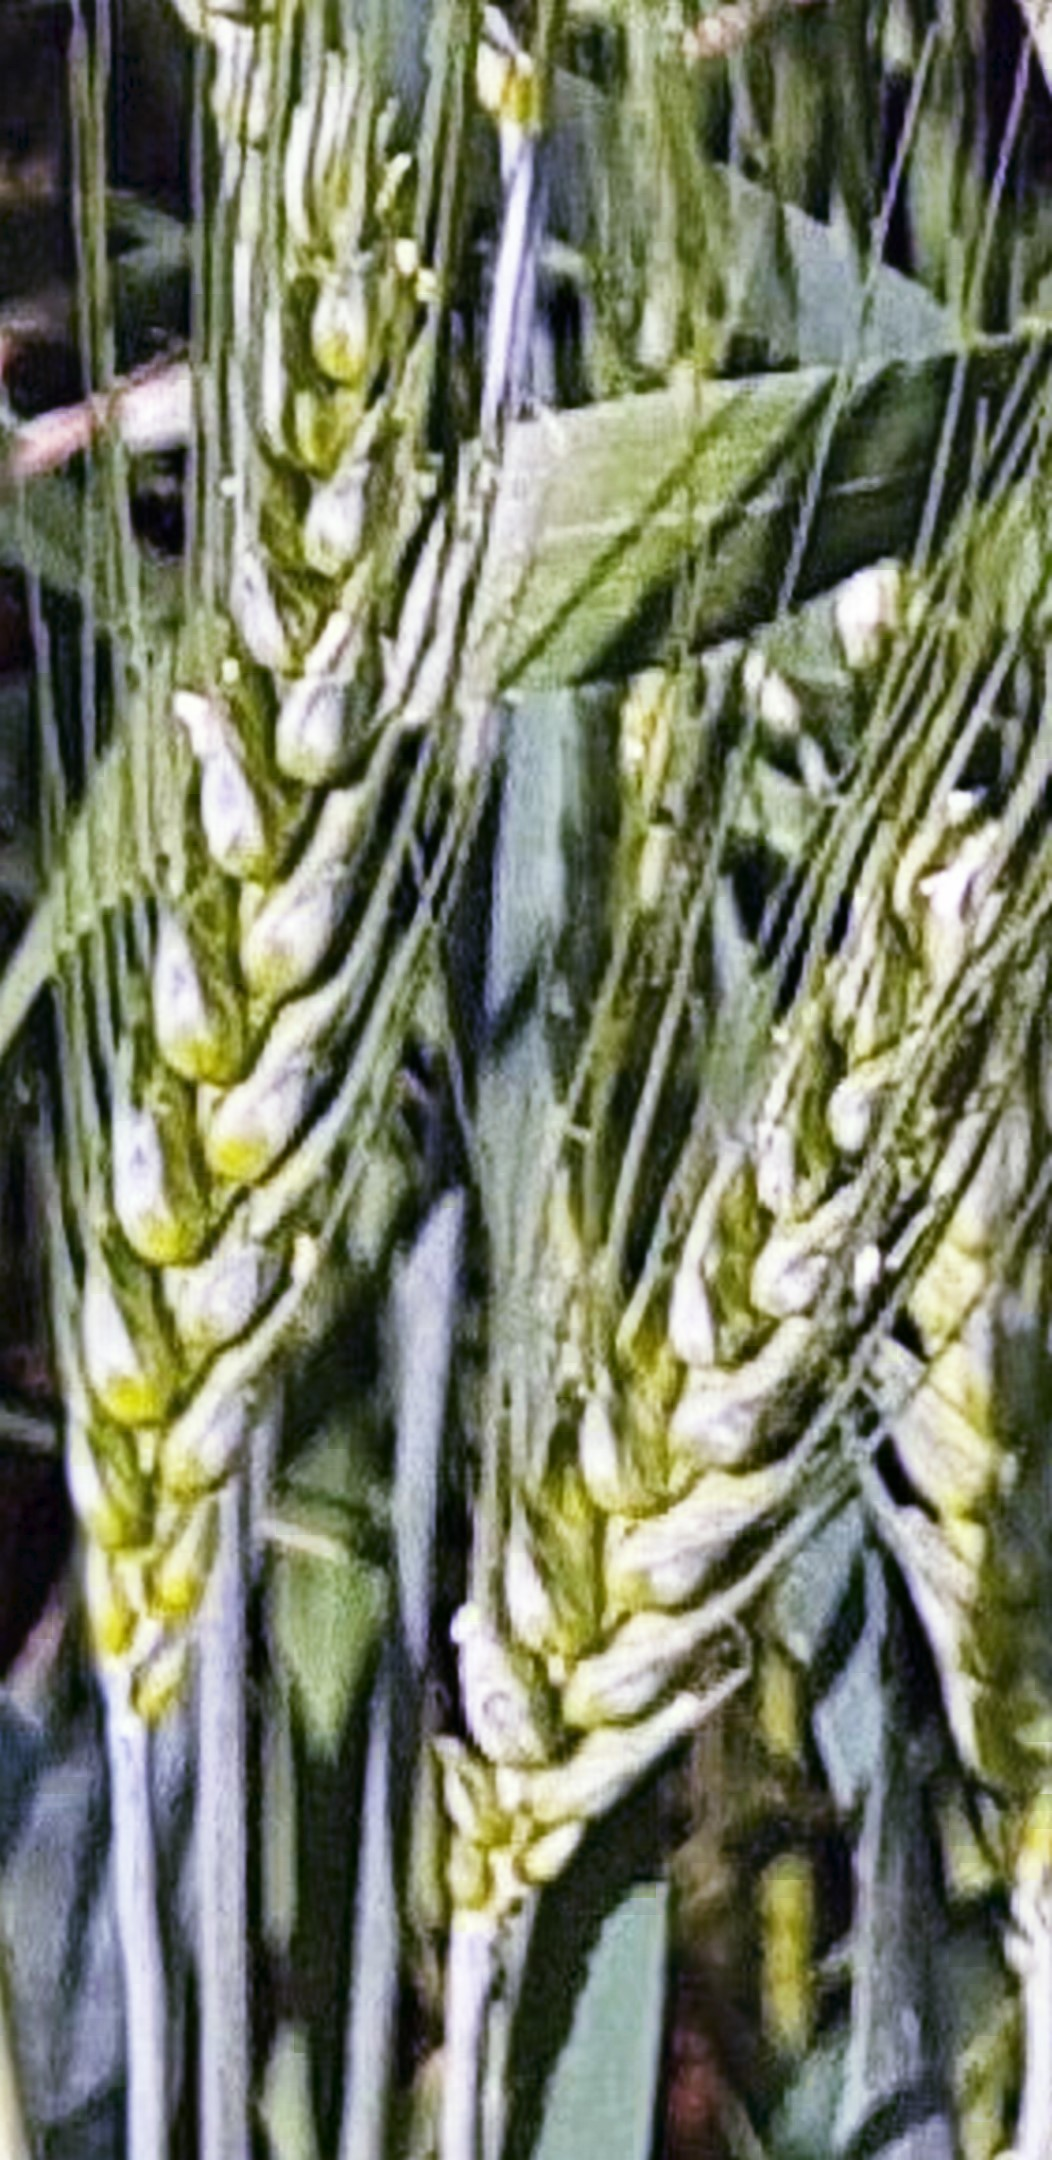Healthy Wheat: (1, 129, 459, 1719), (434, 871, 1052, 1952)
